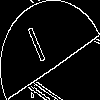I: (25, 25, 52, 73)
